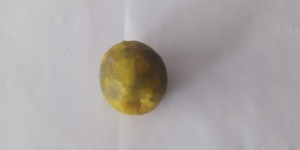BAD: (99, 38, 169, 119)
